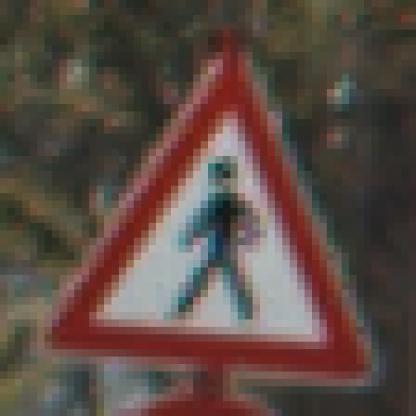crosswalk: (55, 31, 396, 399)
